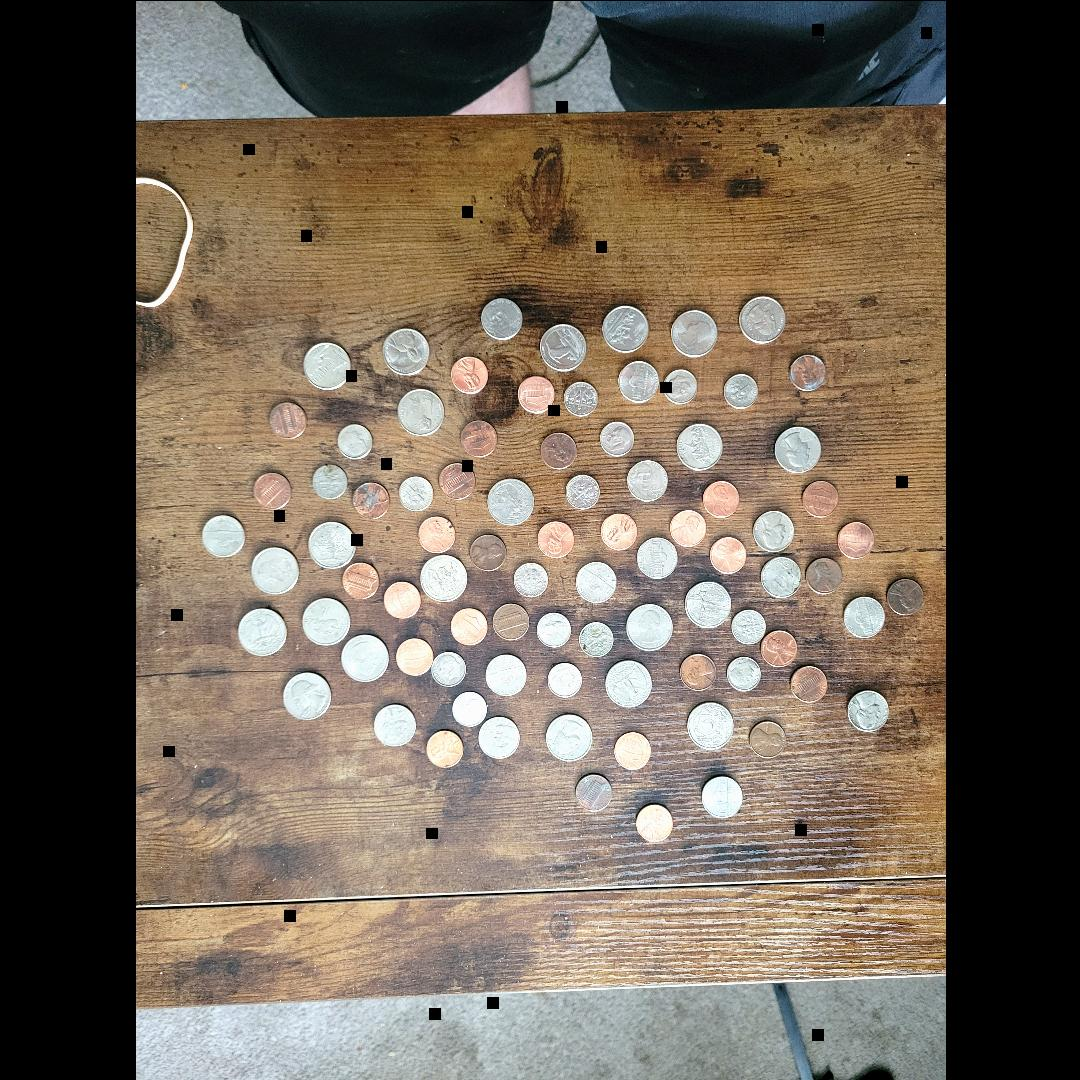Dime: (728, 608, 764, 644), (450, 690, 486, 725), (579, 619, 613, 655), (535, 610, 569, 646), (312, 464, 346, 500), (564, 473, 598, 509), (338, 423, 372, 459), (598, 420, 632, 456), (546, 661, 580, 696), (399, 476, 433, 510), (722, 371, 755, 406), (514, 562, 546, 598), (726, 656, 758, 692), (432, 650, 464, 686), (564, 380, 596, 416), (663, 368, 695, 404)
Nickel: (480, 295, 522, 341), (624, 458, 666, 502), (201, 514, 245, 556), (484, 652, 526, 696), (701, 774, 743, 818), (373, 704, 415, 746), (616, 360, 658, 402), (636, 536, 676, 580), (576, 558, 616, 602), (846, 689, 886, 732), (478, 717, 520, 757), (752, 510, 794, 550), (843, 595, 882, 637), (760, 556, 800, 596)
Penny: (747, 718, 786, 758), (467, 532, 505, 572), (395, 638, 433, 678), (634, 801, 672, 841), (886, 576, 924, 616), (268, 400, 305, 440), (708, 536, 746, 574), (383, 581, 421, 619), (424, 728, 462, 766), (788, 664, 826, 702), (350, 480, 388, 518), (615, 729, 651, 769), (253, 471, 290, 509), (518, 375, 554, 413), (669, 507, 705, 545), (536, 521, 572, 559), (417, 516, 453, 554), (802, 480, 838, 518), (450, 356, 486, 394), (450, 607, 486, 645), (341, 562, 379, 598), (805, 557, 841, 594), (760, 631, 796, 668), (492, 602, 528, 639), (438, 463, 474, 499), (789, 354, 825, 390), (459, 420, 495, 456), (678, 652, 714, 688), (703, 480, 739, 516), (576, 772, 610, 810), (600, 514, 634, 552), (540, 430, 574, 468), (837, 520, 871, 558)
Quarter: (602, 304, 650, 354), (339, 634, 387, 682), (624, 601, 672, 649), (283, 670, 331, 718), (544, 712, 592, 760), (382, 327, 430, 375), (302, 340, 350, 388), (306, 520, 354, 567), (604, 659, 650, 707), (302, 594, 348, 642), (669, 310, 717, 356), (418, 555, 466, 601), (772, 425, 820, 471), (739, 294, 785, 342), (239, 608, 285, 654), (252, 546, 298, 592), (675, 422, 721, 468), (398, 388, 444, 434), (486, 478, 532, 524), (684, 581, 728, 627), (540, 324, 584, 370), (689, 703, 732, 749)
